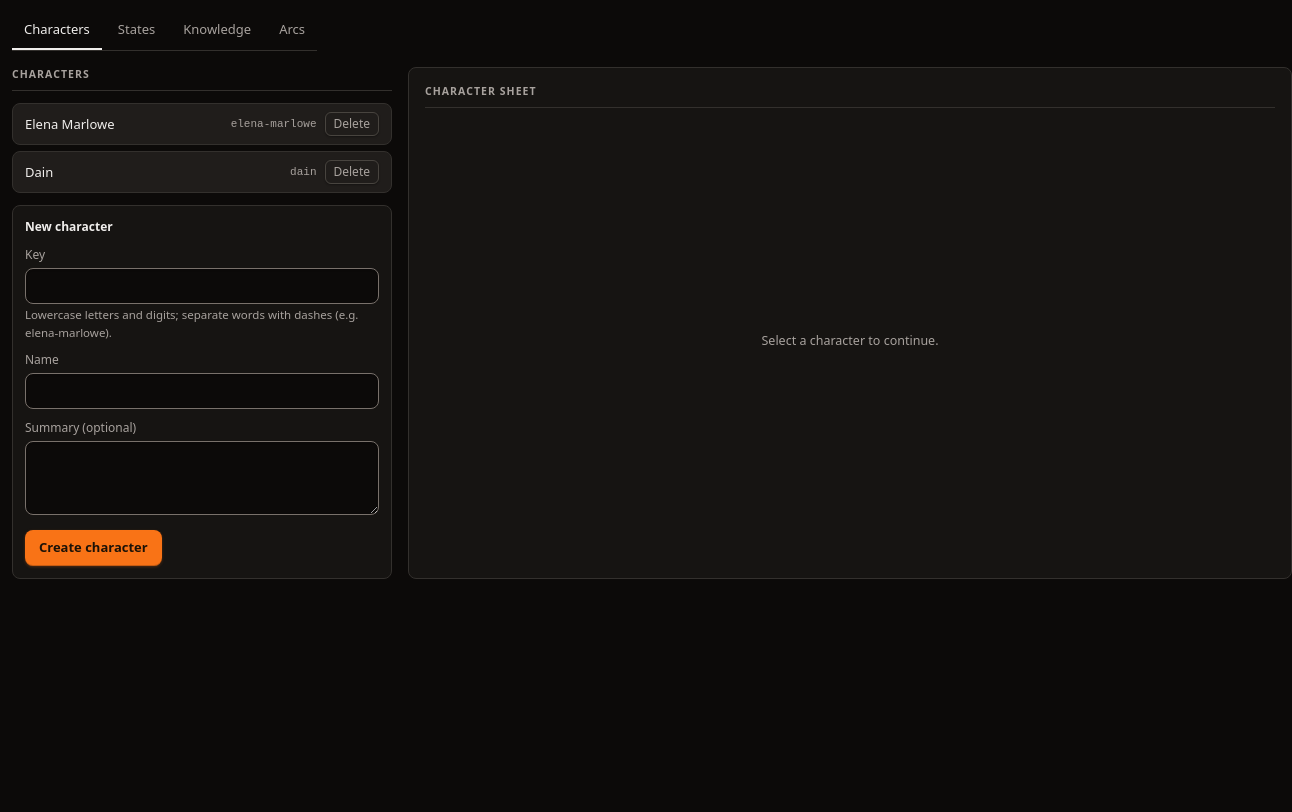
CharacterPanel › surfaces delete 404 honestly inside the confirm strip
Click the button with test id "character-delete-c1" at (352, 124), box [324, 112, 379, 136]
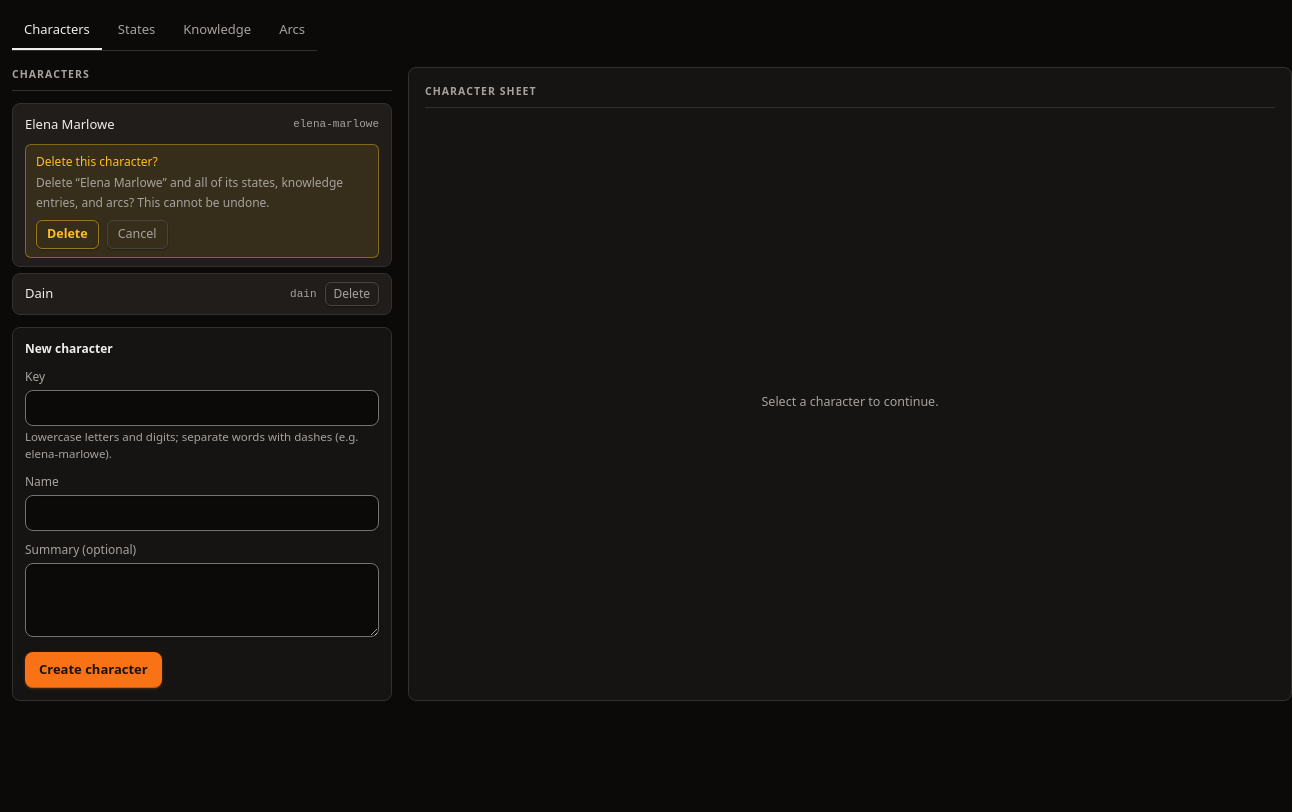
Click the button with test id "character-confirm-yes-c1" at (67, 235), box [36, 220, 99, 249]
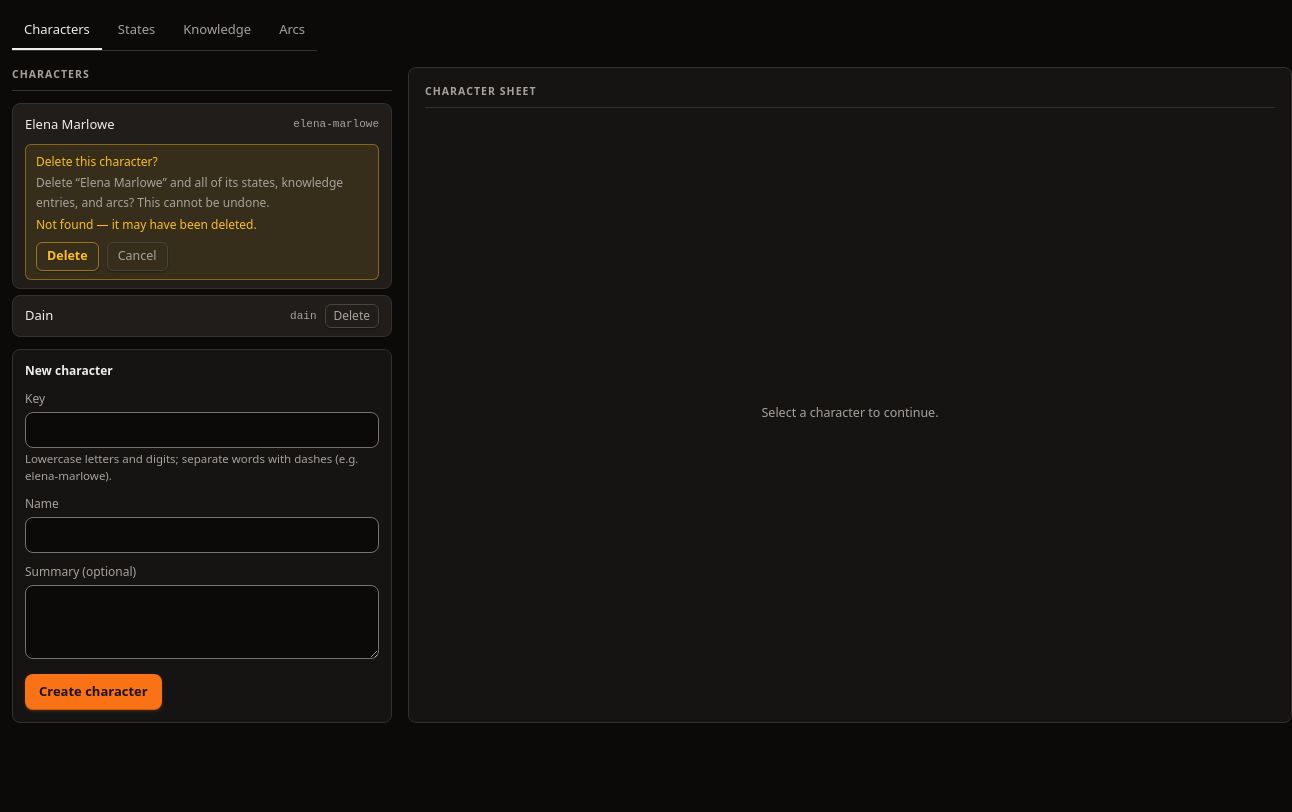
Result: the element with test id "character-confirm-c1" shows "Not found — it may have been deleted." at [36, 216, 257, 233]
